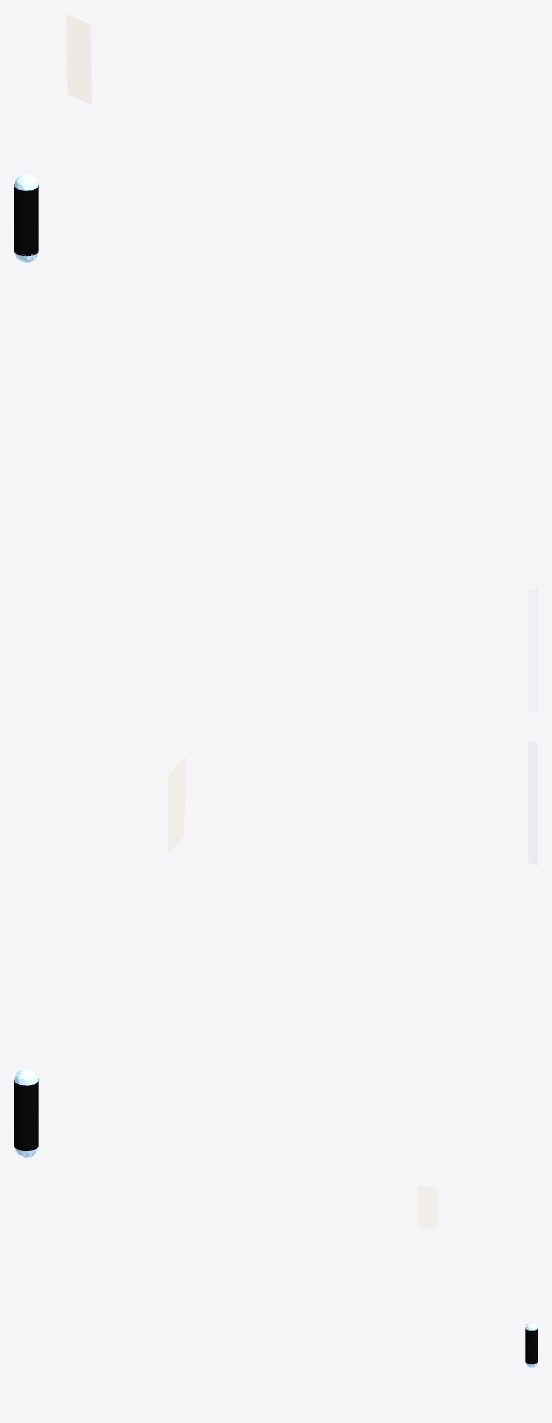
Rendered from forth-device.glb.
3 views of the same model, one above another, from view 1: azimuth 30°, elevation 25°; view 2: azimuth 150°, elevation 25°; view 3: azimuth 270°, elevation 25° (orthographic). The views are drawn at different scales.
Visible parts, largest first — view 1: KeyBox, Body, FrontFill; view 2: Body, KeyBox, FrontFill; view 3: KeyBox, Body.
Boxes of the visible parts, left/top/right/bottom form: KeyBox: left=66, top=14, right=91, bottom=104; Body: left=14, top=184, right=38, bottom=256; FrontFill: left=528, top=588, right=537, bottom=712; Body: left=14, top=1079, right=38, bottom=1150; KeyBox: left=167, top=756, right=185, bottom=855; FrontFill: left=528, top=741, right=537, bottom=865; KeyBox: left=417, top=1186, right=438, bottom=1228; Body: left=525, top=1328, right=537, bottom=1364.
Bounding box in the file's own units: 6.36 × 40.17 × 91.1.
Materials: 8 (1 with a texture image).
